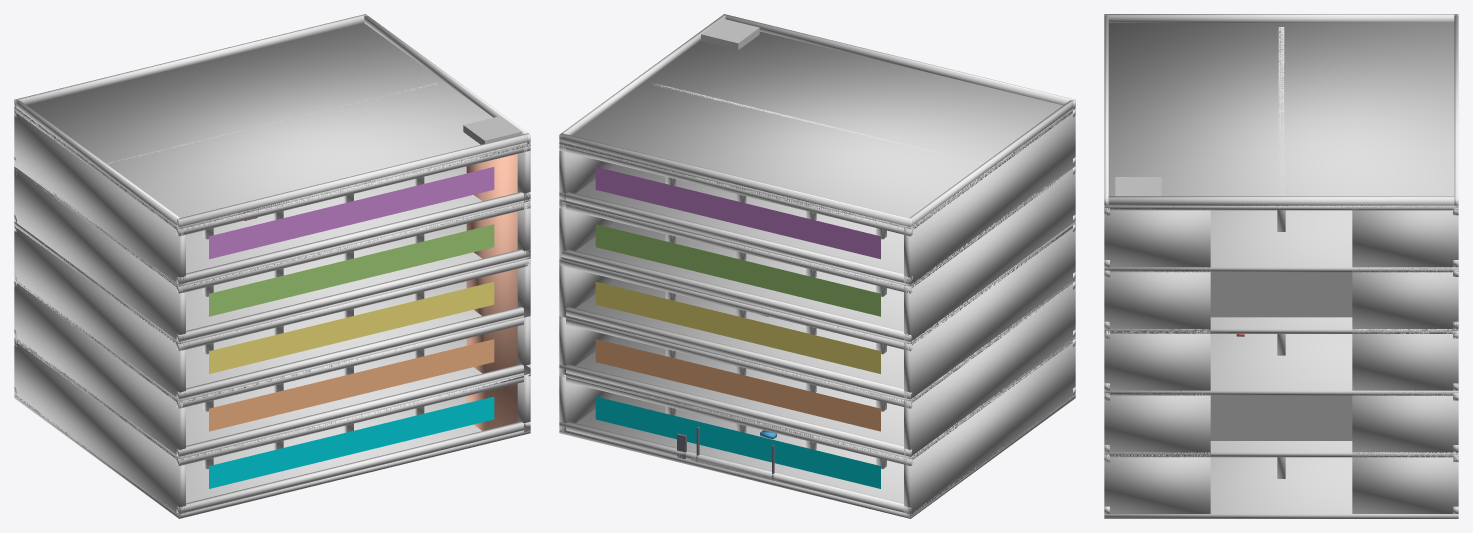
Rendered from Building_3_4.glb.
The picture shows the model from 3 angles, left to right: view 1: azimuth 30°, elevation 25°; view 2: azimuth 150°, elevation 25°; view 3: azimuth 270°, elevation 25°; orthographic projection. The views are drawn at different scales.
Visible parts, largest first — view 1: Floor_5, Wall_L_0, Wall_L_4, Wall_L_1, Wall_L_2, Wall_L_3, Floor_0, Floor_1, Floor_4, Floor_3, Floor_2, Accent_B_2 (+25 smaller); view 2: Floor_5, Wall_L_0, Wall_L_4, Wall_L_1, Wall_L_2, Wall_L_3, Floor_1, Floor_0, Floor_4, Floor_3, Floor_2, Accent_F_2 (+25 smaller); view 3: Floor_5, Floor_4, Floor_2, Floor_0, Ramp_1, Ramp_3, Wall_R_1_1, Wall_R_1_2, Wall_R_3_2, Wall_R_2_1, Wall_R_3_1, Wall_R_2_2 (+12 smaller).
Boxes of the visible parts, x1,y1,x2,y2 form: Floor_5: (14, 23, 530, 230); Wall_L_0: (14, 339, 185, 516); Wall_L_4: (14, 110, 185, 286); Wall_L_1: (14, 282, 185, 458); Wall_L_2: (14, 228, 185, 400); Wall_L_3: (14, 166, 185, 343); Floor_0: (14, 394, 530, 518); Floor_1: (14, 337, 530, 460); Floor_4: (35, 166, 530, 288); Floor_3: (14, 221, 529, 344); Floor_2: (16, 280, 523, 403); Accent_B_2: (209, 282, 494, 373); Floor_5: (559, 31, 1075, 230); Wall_L_0: (904, 341, 1075, 516); Wall_L_4: (904, 111, 1075, 286); Wall_L_1: (904, 283, 1075, 458); Wall_L_2: (904, 228, 1075, 401); Wall_L_3: (904, 168, 1075, 344); Floor_1: (559, 336, 1075, 459); Floor_0: (559, 394, 1075, 518); Floor_4: (559, 164, 1059, 288); Floor_3: (560, 221, 1075, 345); Floor_2: (566, 279, 1075, 403); Accent_F_2: (595, 282, 880, 373); Floor_5: (1104, 23, 1458, 210); Floor_4: (1104, 210, 1458, 272); Floor_2: (1104, 334, 1458, 395); Floor_0: (1104, 457, 1458, 518); Ramp_1: (1210, 395, 1352, 440); Ramp_3: (1210, 272, 1352, 317); Wall_R_1_1: (1104, 393, 1210, 454); Wall_R_1_2: (1352, 393, 1458, 454); Wall_R_3_2: (1352, 270, 1458, 331); Wall_R_2_1: (1104, 331, 1210, 392); Wall_R_3_1: (1104, 271, 1210, 331); Wall_R_2_2: (1352, 331, 1458, 392).
Size of the model in its own units: 3.2 by 2.6 by 2.6.
